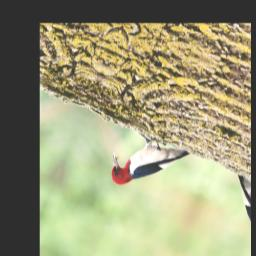Woodpecker: (103, 124, 190, 206)
